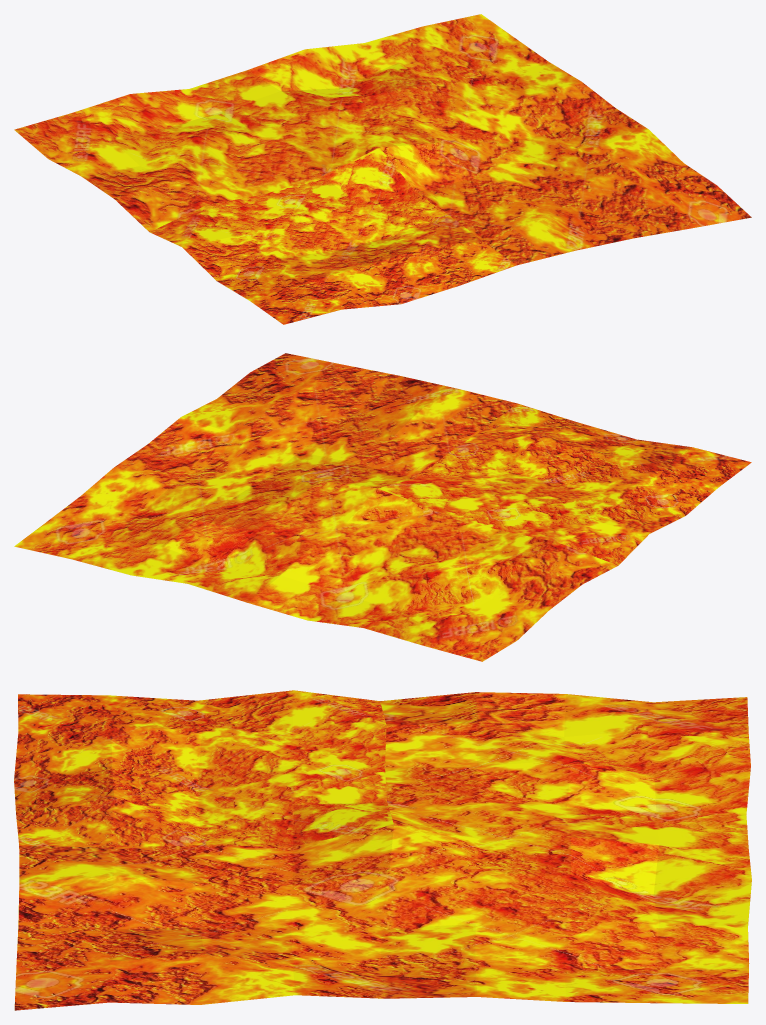
File: lava.fbx
3 renders of one model, top to bottom at view 1: azimuth 30°, elevation 25°; view 2: azimuth 150°, elevation 25°; view 3: azimuth 270°, elevation 25°, orthographic. The views are drawn at different scales.
Visible parts, largest first — view 1: Plane; view 2: Plane; view 3: Plane.
Boxes of the visible parts, x1,y1,x2,y2 form: Plane: (14,14,751,324); Plane: (14,353,751,661); Plane: (14,690,751,1010).
Size of the model in its own units: 1339 by 68.16 by 1350.
